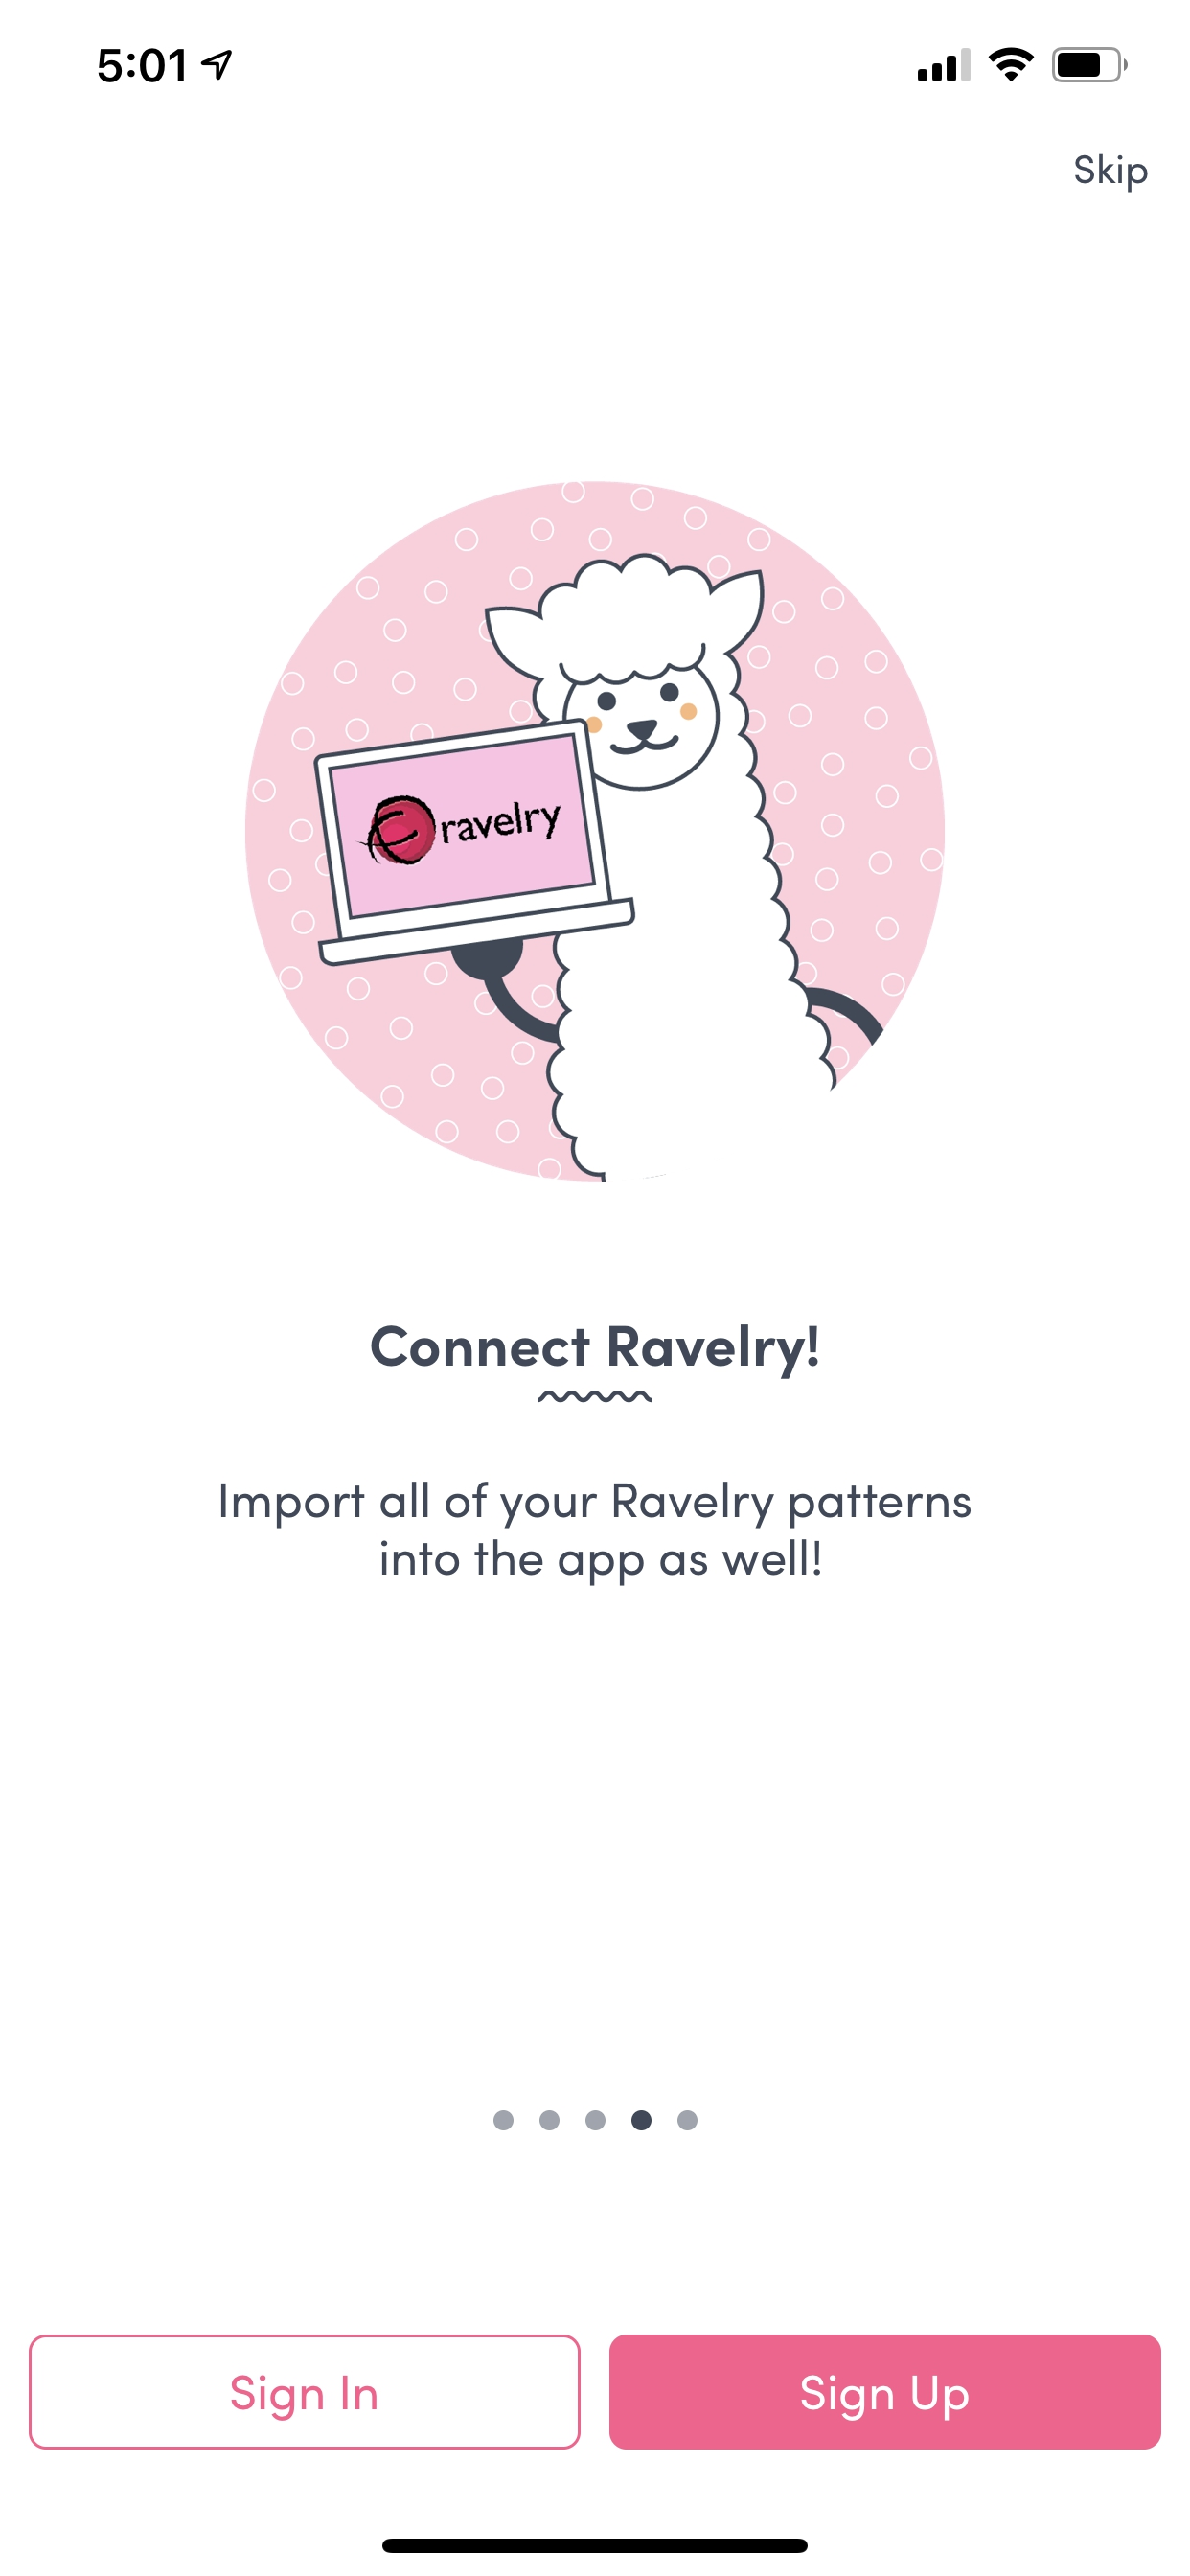Image: (245, 481, 945, 1181)
PageIndicator: (493, 2109, 697, 2131)
Text: (220, 1480, 971, 1587), (371, 1324, 819, 1378), (1073, 153, 1147, 194)
TextButton: (610, 2333, 1162, 2449), (28, 2333, 580, 2449)
UpperTaskBar: (97, 48, 1128, 84)
